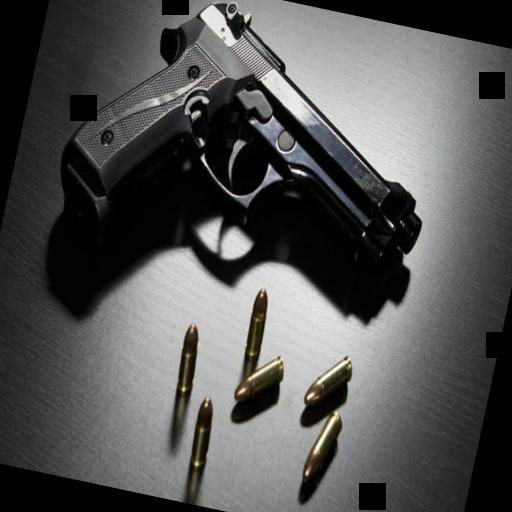Handgun: (36, 0, 468, 376)
